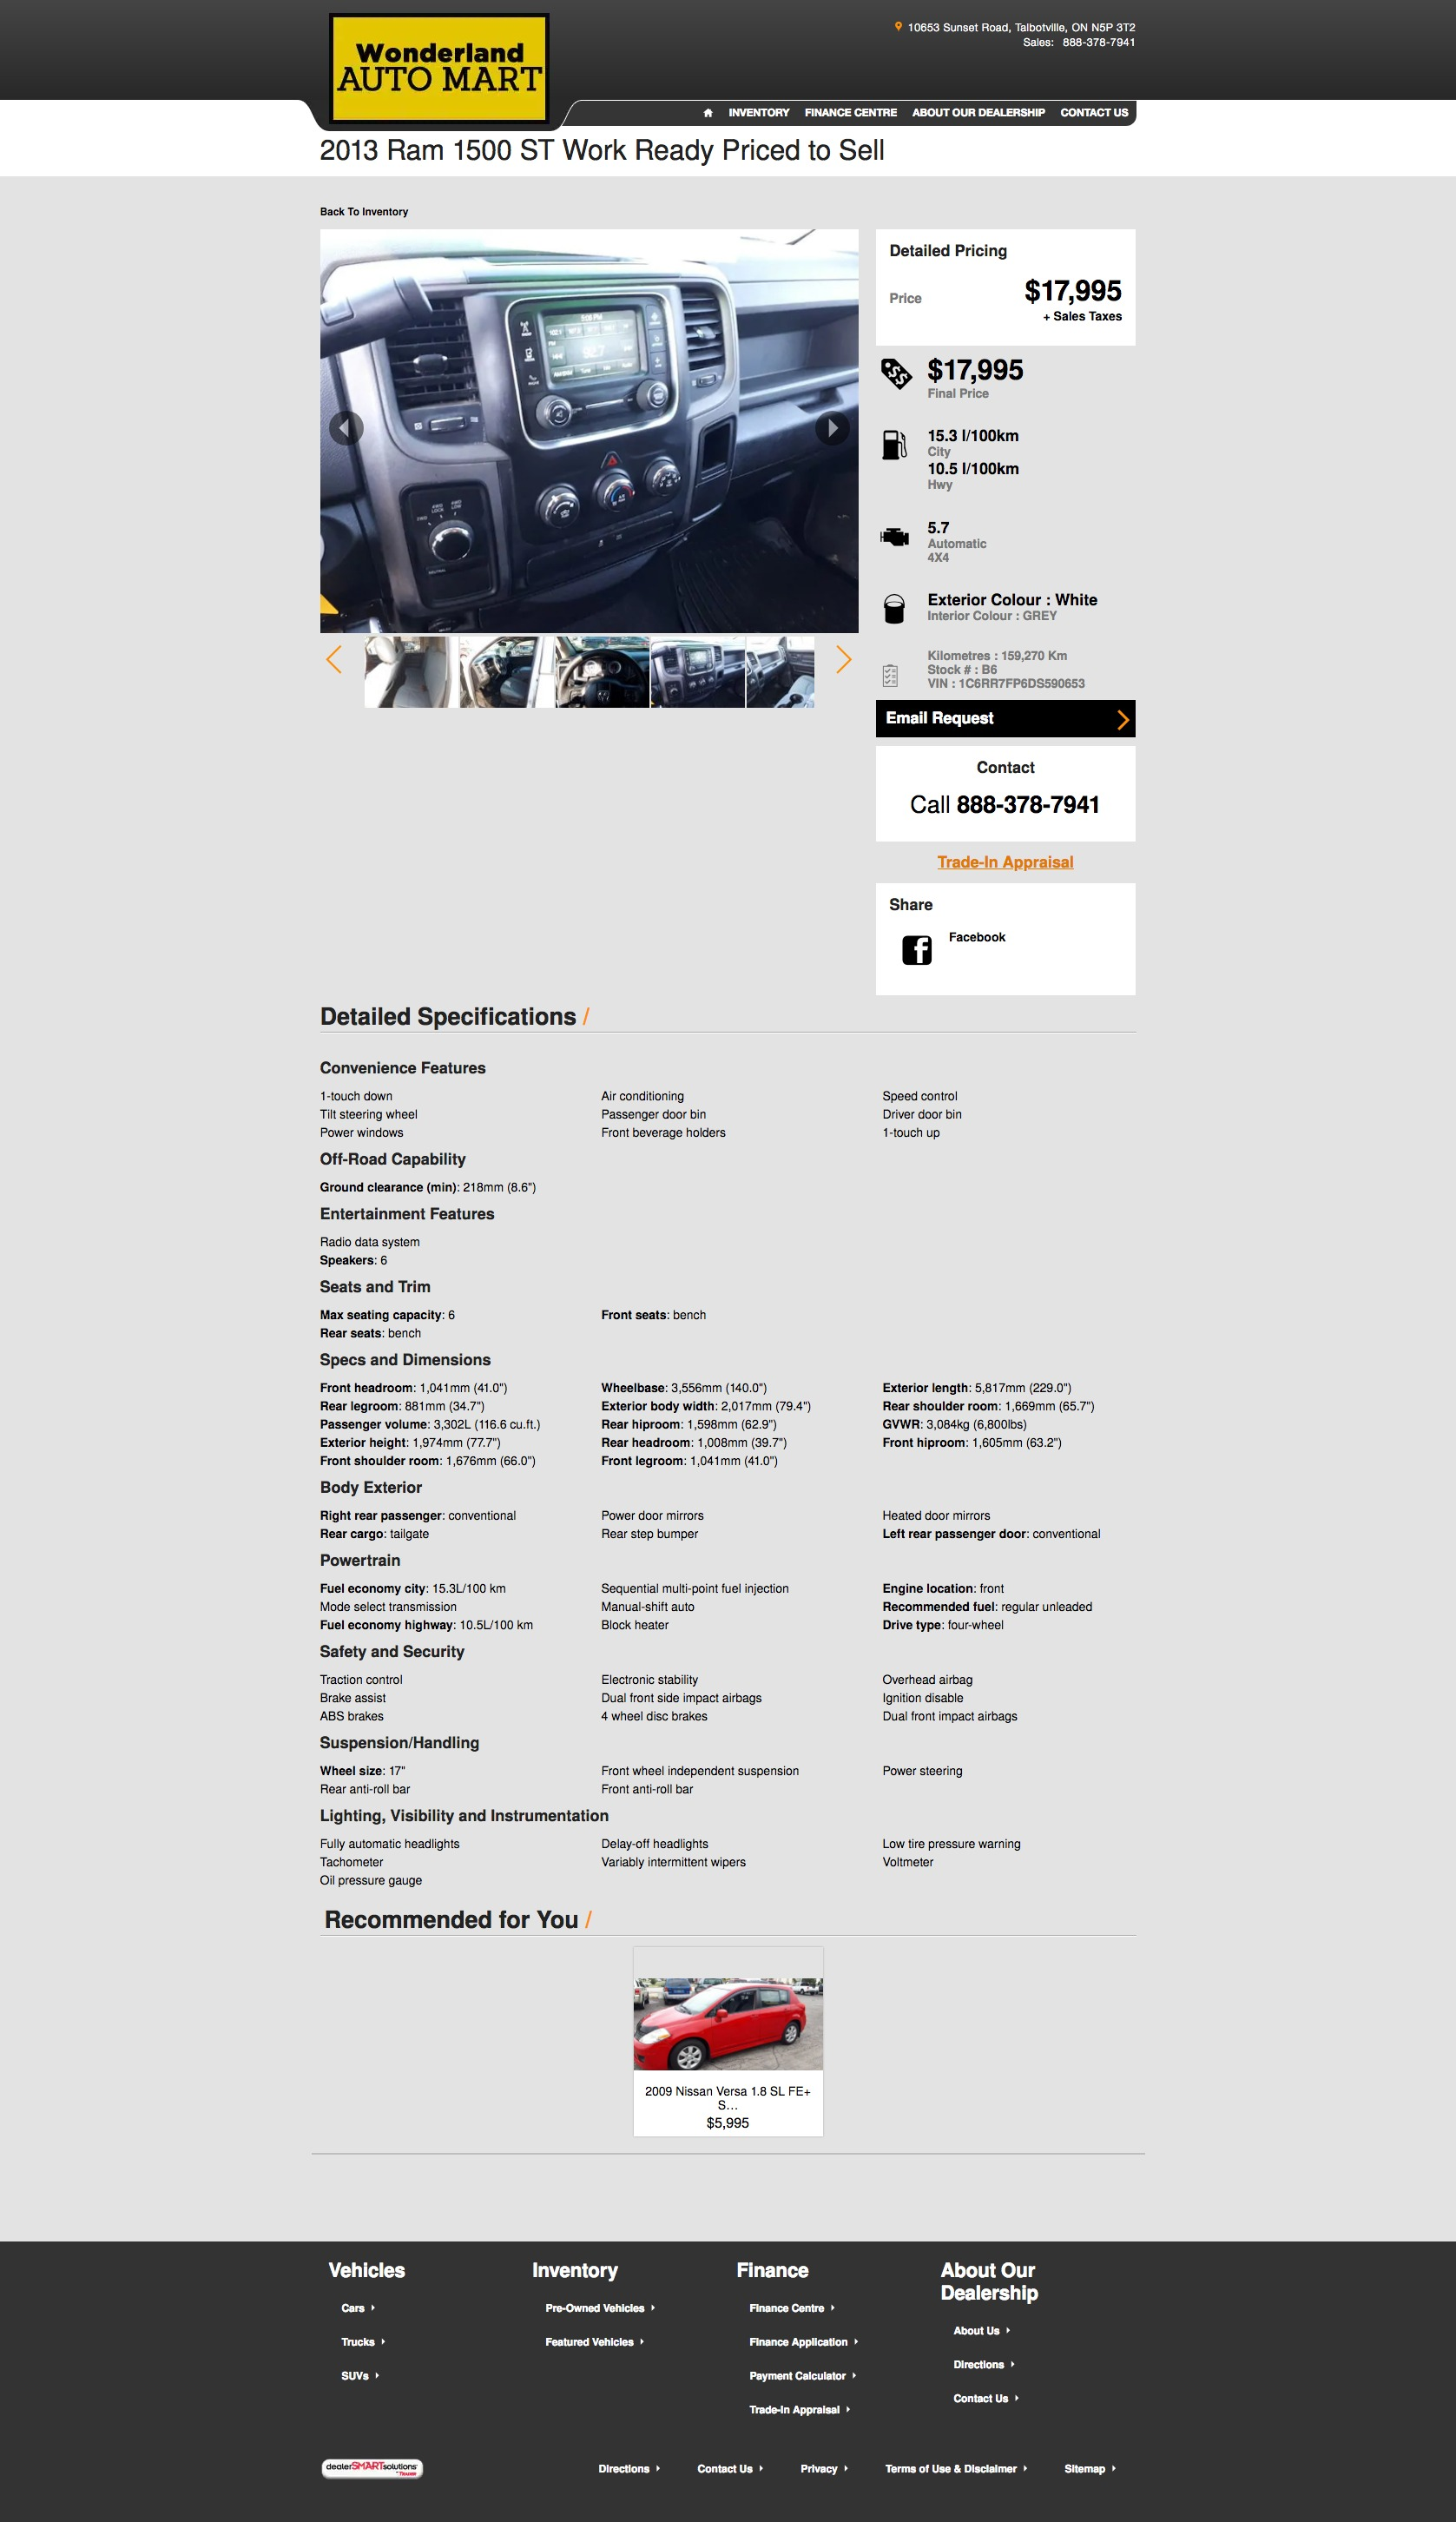car: (835, 645, 853, 674)
